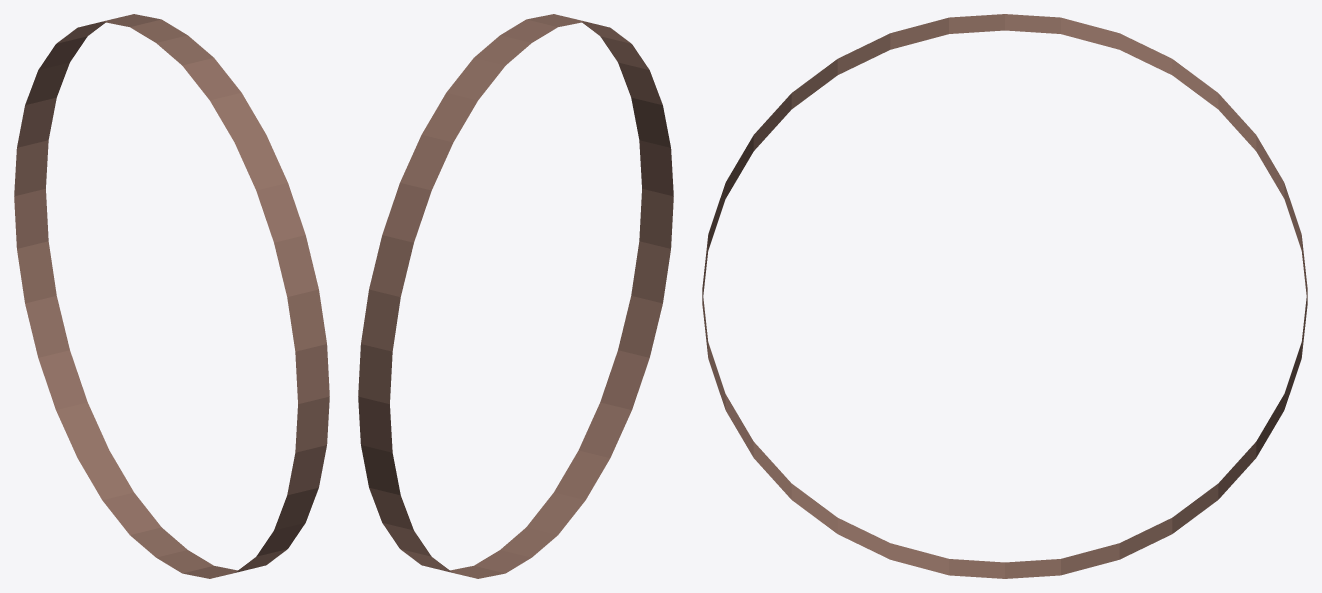
Rendered from Ground02.fbx.
3 renders of one model, left to right at view 1: azimuth 30°, elevation 25°; view 2: azimuth 150°, elevation 25°; view 3: azimuth 270°, elevation 25°, orthographic. The views are drawn at different scales.
Visible parts, largest first — view 1: ground; view 2: ground; view 3: ground.
Boxes of the visible parts, x1,y1,x2,y2 form: ground: (14, 14, 329, 578); ground: (358, 14, 673, 578); ground: (702, 14, 1307, 578).
Bounding box in the file's own units: 1284 × 19774 × 19774.
